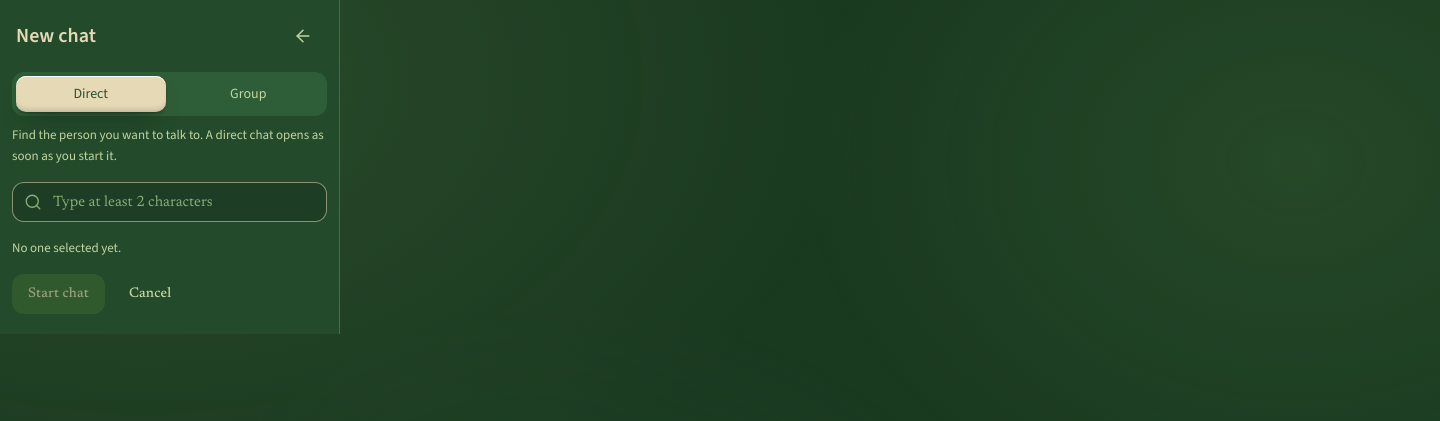
NewChatView › surfaces a failed creation and keeps the view open
This screenshot has width=1440, height=421.
Type "al" into the dropdown named "Search people" at (170,202), box [12, 182, 327, 222]
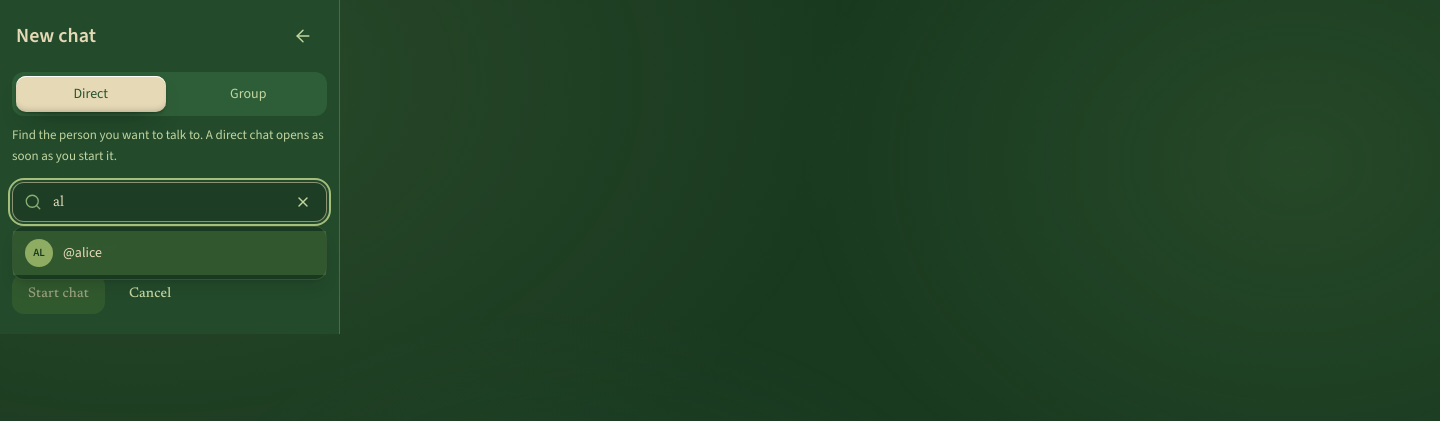
Click the option "AL @alice" at (39,253), box [13, 231, 326, 275]
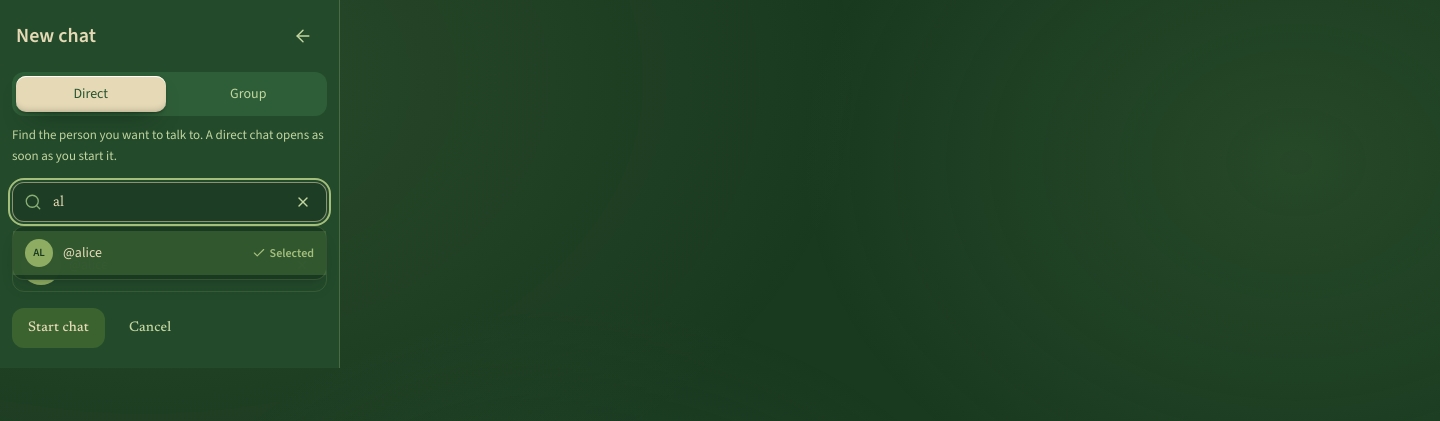
Click the button "Start chat" at (58,328), box [12, 308, 105, 348]
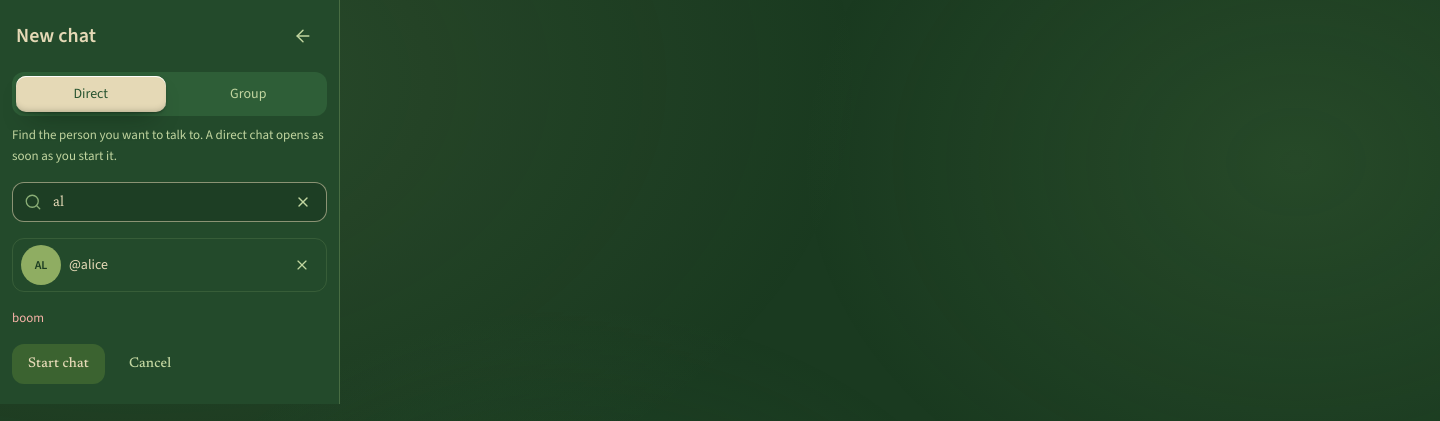
Expected: the message "boom" is shown, [12, 309, 44, 326]
